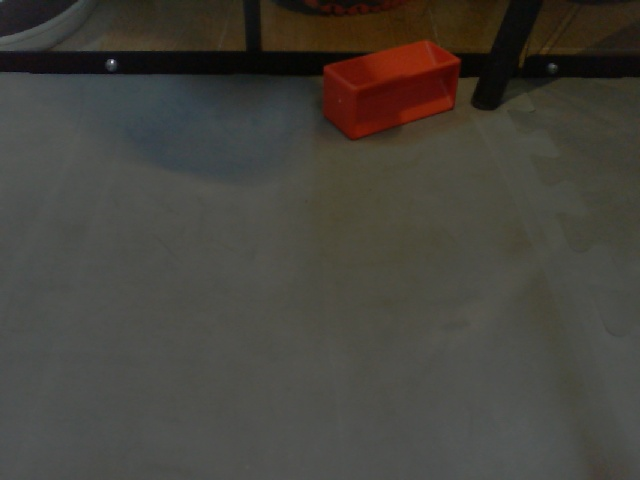RedSample: (321, 38, 461, 140)
